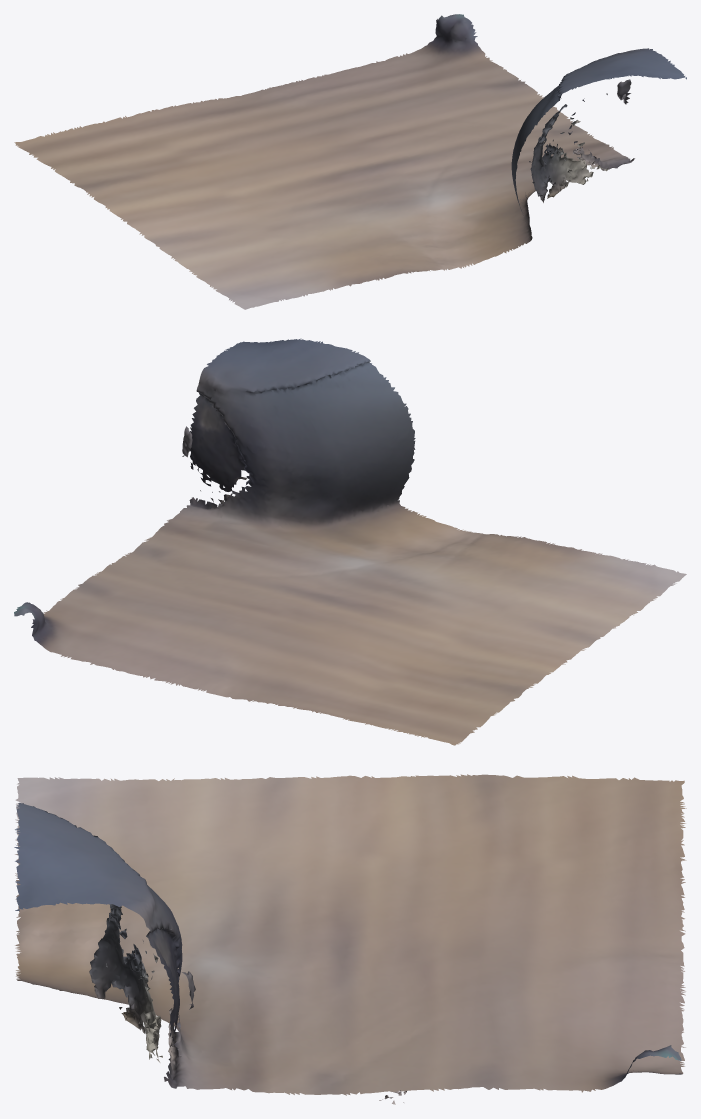
Rendered from apartment-full-82-f2cb57456f3f.glb.
3 renders of one model, top to bottom at view 1: azimuth 30°, elevation 25°; view 2: azimuth 150°, elevation 25°; view 3: azimuth 270°, elevation 25°, orthographic. The views are drawn at different scales.
Size of the model in its own units: 1.25 by 0.465 by 1.13.
